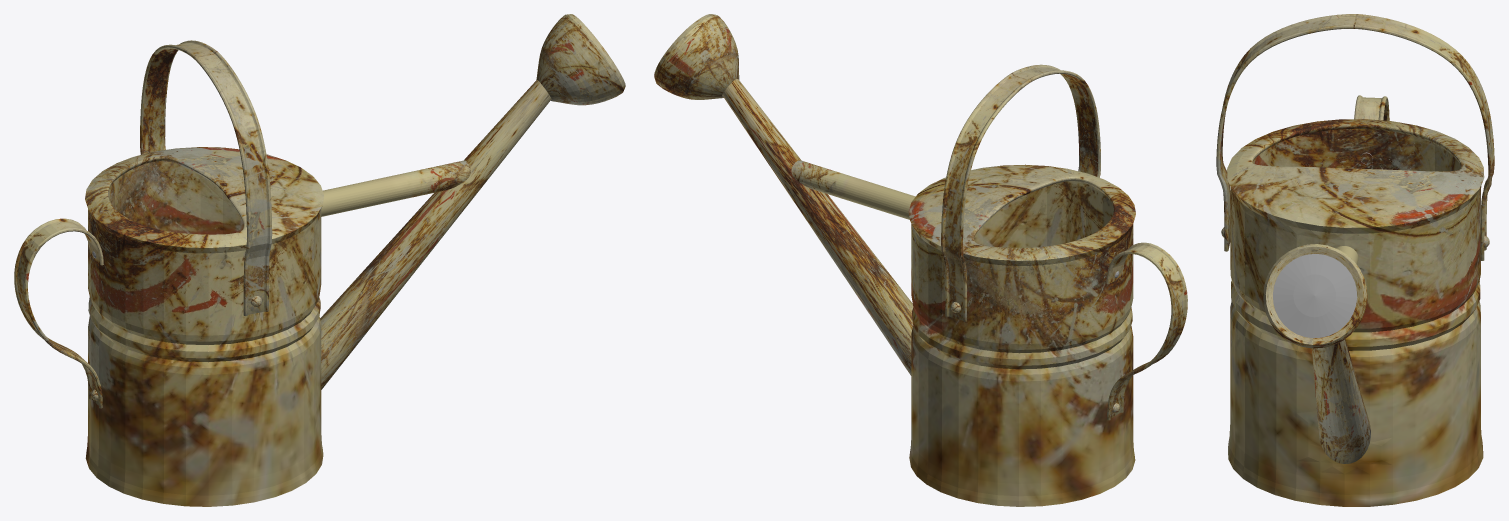
File: wateringcan.obj
3 views of the same model, side by side, from view 1: azimuth 30°, elevation 25°; view 2: azimuth 150°, elevation 25°; view 3: azimuth 270°, elevation 25° (orthographic). The views are drawn at different scales.
Parts seen in each view (by area): view 1: WateringCan_Body.001, WateringCan_Pipe1.001, WateringCan_HandleTop.001, WateringCan_Mouth1.001, WateringCan_Pipe2.001, WateringCan_HandleBack.001; view 2: WateringCan_Body.001, WateringCan_Pipe1.001, WateringCan_HandleTop.001, WateringCan_Mouth1.001, WateringCan_HandleBack.001, WateringCan_Pipe2.001; view 3: WateringCan_Body.001, WateringCan_HandleTop.001, WateringCan_Mouth.001, WateringCan_Pipe1.001, WateringCan_Mouth1.001, WateringCan_HandleBack.001.
Boxes of the visible parts, box(x1,y1,x2,y2) form: WateringCan_Body.001: box(85, 147, 323, 506); WateringCan_Pipe1.001: box(320, 80, 551, 389); WateringCan_HandleTop.001: box(140, 40, 272, 316); WateringCan_Mouth1.001: box(536, 14, 625, 105); WateringCan_Pipe2.001: box(321, 160, 470, 216); WateringCan_HandleBack.001: box(14, 218, 103, 408); WateringCan_Body.001: box(908, 164, 1135, 506); WateringCan_Pipe1.001: box(722, 79, 913, 375); WateringCan_HandleTop.001: box(941, 64, 1100, 321); WateringCan_Mouth1.001: box(654, 14, 739, 99); WateringCan_HandleBack.001: box(1106, 242, 1187, 420); WateringCan_Pipe2.001: box(791, 160, 915, 219); WateringCan_Body.001: box(1227, 119, 1484, 506); WateringCan_HandleTop.001: box(1216, 14, 1494, 260); WateringCan_Mouth.001: box(1273, 254, 1357, 338); WateringCan_Pipe1.001: box(1311, 339, 1370, 463); WateringCan_Mouth1.001: box(1263, 244, 1367, 348); WateringCan_HandleBack.001: box(1354, 95, 1389, 120).
Size of the model in its own units: 55.53 by 37.63 by 21.74.
3 materials, 1 textured.
